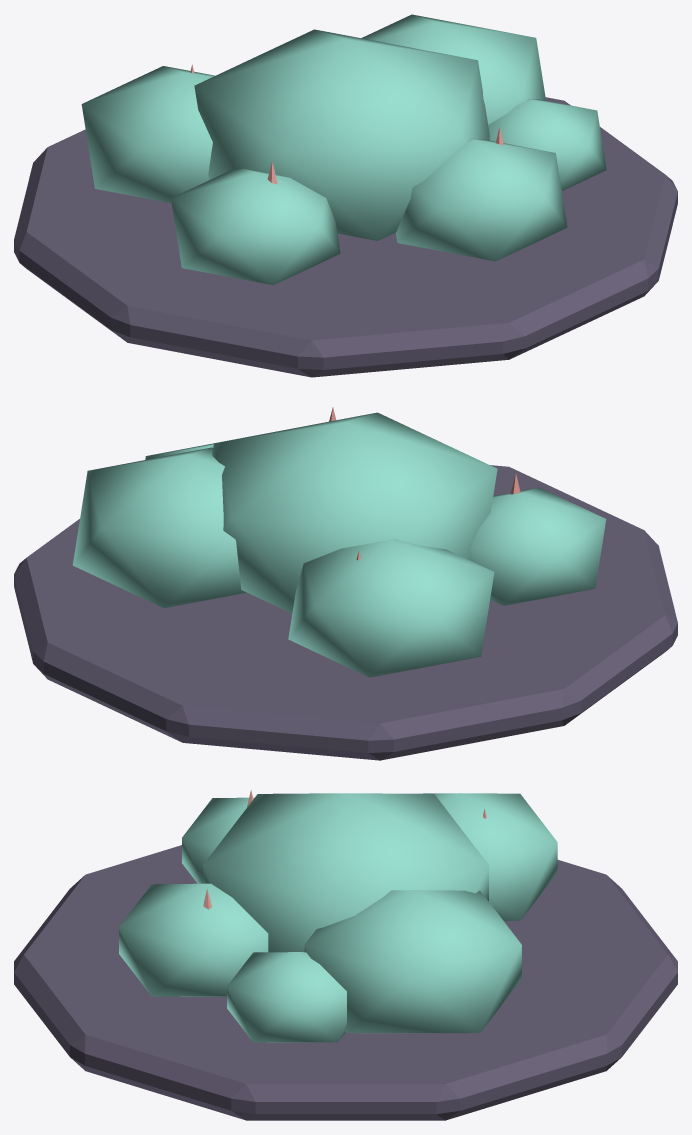
File: ember_glow_moss.glb
3 renders of one model, top to bottom at view 1: azimuth 30°, elevation 25°; view 2: azimuth 150°, elevation 25°; view 3: azimuth 270°, elevation 25°, orthographic.
Visible parts, largest first — view 1: ember_glow_moss.001; view 2: ember_glow_moss.001; view 3: ember_glow_moss.001.
Boxes of the visible parts, box(x1,y1,x2,y2) form: ember_glow_moss.001: box(14, 14, 677, 377); ember_glow_moss.001: box(14, 407, 677, 760); ember_glow_moss.001: box(14, 790, 677, 1120).
Size of the model in its own units: 1.9 by 0.65 by 1.98.
